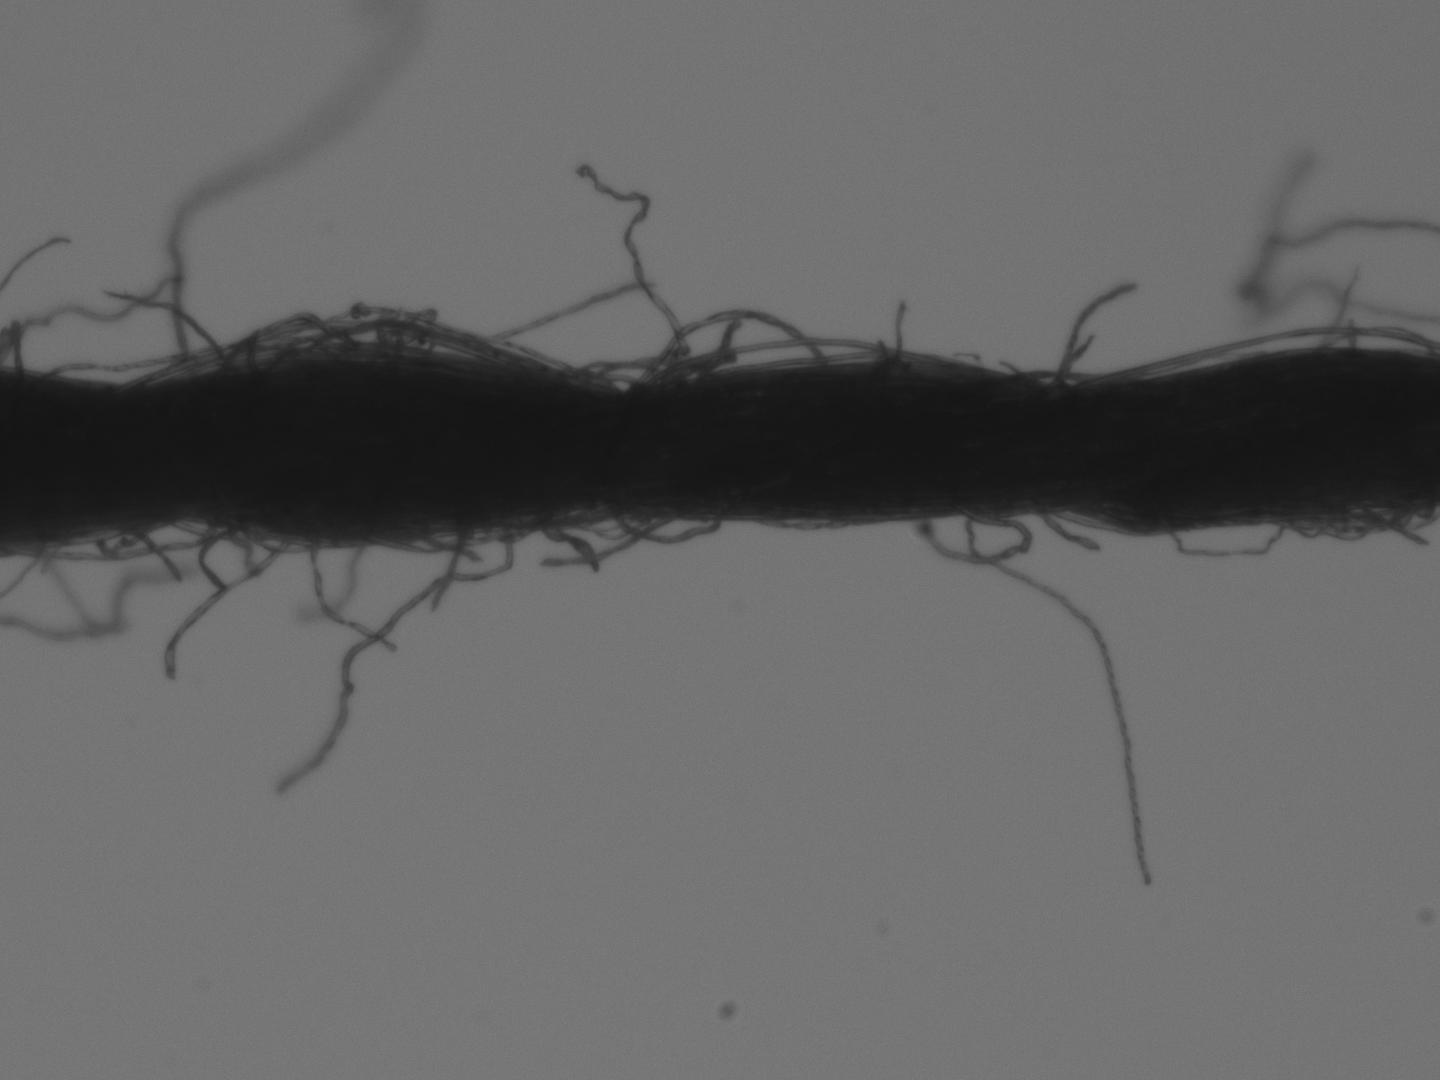loop_fiber: (259, 318, 542, 378), (1104, 329, 1433, 380), (145, 314, 359, 383), (644, 311, 822, 387), (651, 335, 900, 388), (7, 520, 235, 562), (367, 517, 524, 554), (1286, 504, 1405, 543), (1170, 521, 1281, 558), (610, 508, 713, 548), (571, 360, 675, 388), (242, 523, 328, 556), (1008, 366, 1099, 387), (595, 370, 635, 390)
protruding_fiber: (967, 509, 1159, 881), (276, 522, 524, 798), (575, 167, 698, 376), (164, 535, 283, 681), (104, 281, 232, 370), (1051, 278, 1141, 389), (1035, 504, 1094, 555), (893, 301, 907, 363)
